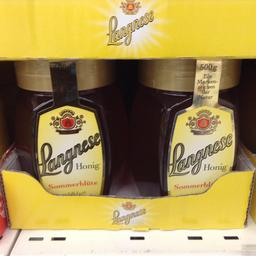honey: (12, 60, 124, 196), (135, 60, 241, 196)
